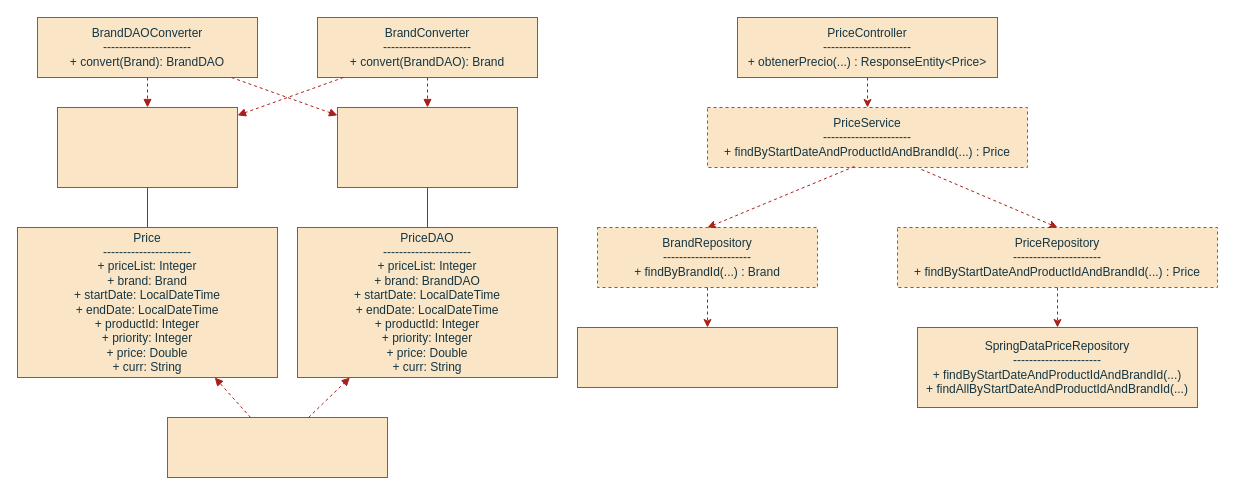
The diagram is 1235 pixels wide and 495 high, and some of its shapes have lost their labels. Each missing label, with the centre of its shape:
"Brand ---------------------- + brandId: Integer + name: String" belongs at point (147, 147).
"BrandDAO ---------------------- + brandId: Integer + name: String" belongs at point (427, 147).
"PriceConverter ---------------------- + convert(PriceDAO): Price" belongs at point (277, 447).
"SpringDataBrandRepository ---------------------- + findByBrandId(...) : BrandDAO" belongs at point (707, 357).
